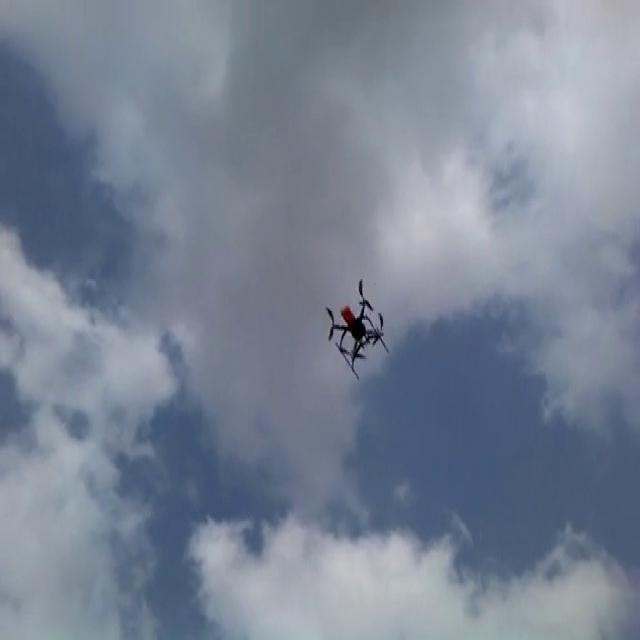drone: (323, 274, 390, 379)
